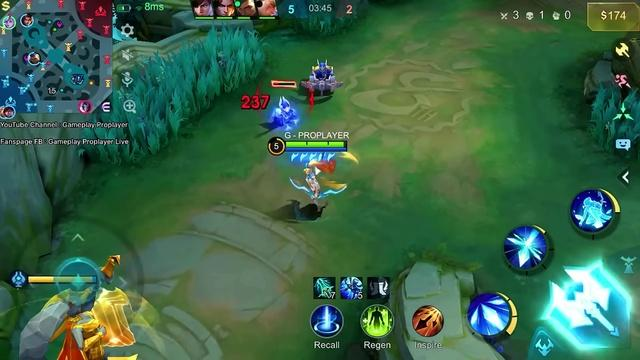Adc_Aliado: (2, 16, 17, 29)
Arbusto: (86, 29, 264, 163), (589, 82, 639, 156)
EXP_Lane: (101, 100, 112, 113)
Esbirro_Enemigo: (300, 61, 342, 99), (272, 96, 298, 124)
Exp_Aliado: (0, 107, 10, 121)
Exp_Enemigo: (77, 99, 93, 113)
Gold_Lane: (0, 0, 12, 15)
HP_Heroe_Principal: (285, 143, 346, 148)
Hechizo_Batalla: (412, 305, 443, 336)
Jungla_Aliado: (29, 52, 40, 66)
Mana: (286, 148, 347, 151)
Mid_Aliado: (3, 105, 16, 118)
Minimapa: (1, 0, 114, 114)
Miya: (290, 160, 346, 202)
Roamer_Aliado: (20, 15, 33, 28)
Skill1: (467, 292, 516, 341)
Skill2: (504, 225, 549, 271)
Skill3: (570, 189, 619, 232)
Torre_Aliada: (20, 286, 135, 359), (100, 255, 119, 280)
